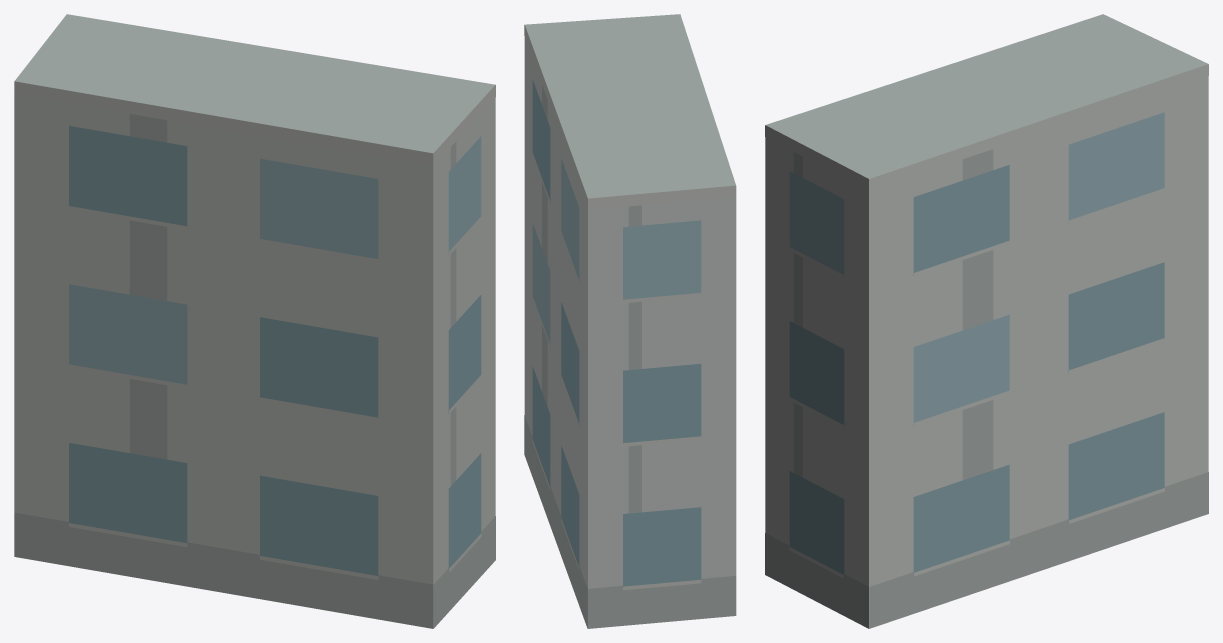
The model's file is survey-upis-32991117.glb.
3 renders of one model, left to right at view 1: azimuth 30°, elevation 25°; view 2: azimuth 150°, elevation 25°; view 3: azimuth 270°, elevation 25°, orthographic. The views are drawn at different scales.
Parts seen in each view (by area): view 1: survey-upis-32991117.tmp; view 2: survey-upis-32991117.tmp; view 3: survey-upis-32991117.tmp.
Boxes of the visible parts, x1=… form: survey-upis-32991117.tmp: x1=14, y1=14, x2=495, y2=628; survey-upis-32991117.tmp: x1=524, y1=14, x2=736, y2=628; survey-upis-32991117.tmp: x1=765, y1=14, x2=1208, y2=628.
Size of the model in its own units: 7.21 by 9.15 by 8.18.
